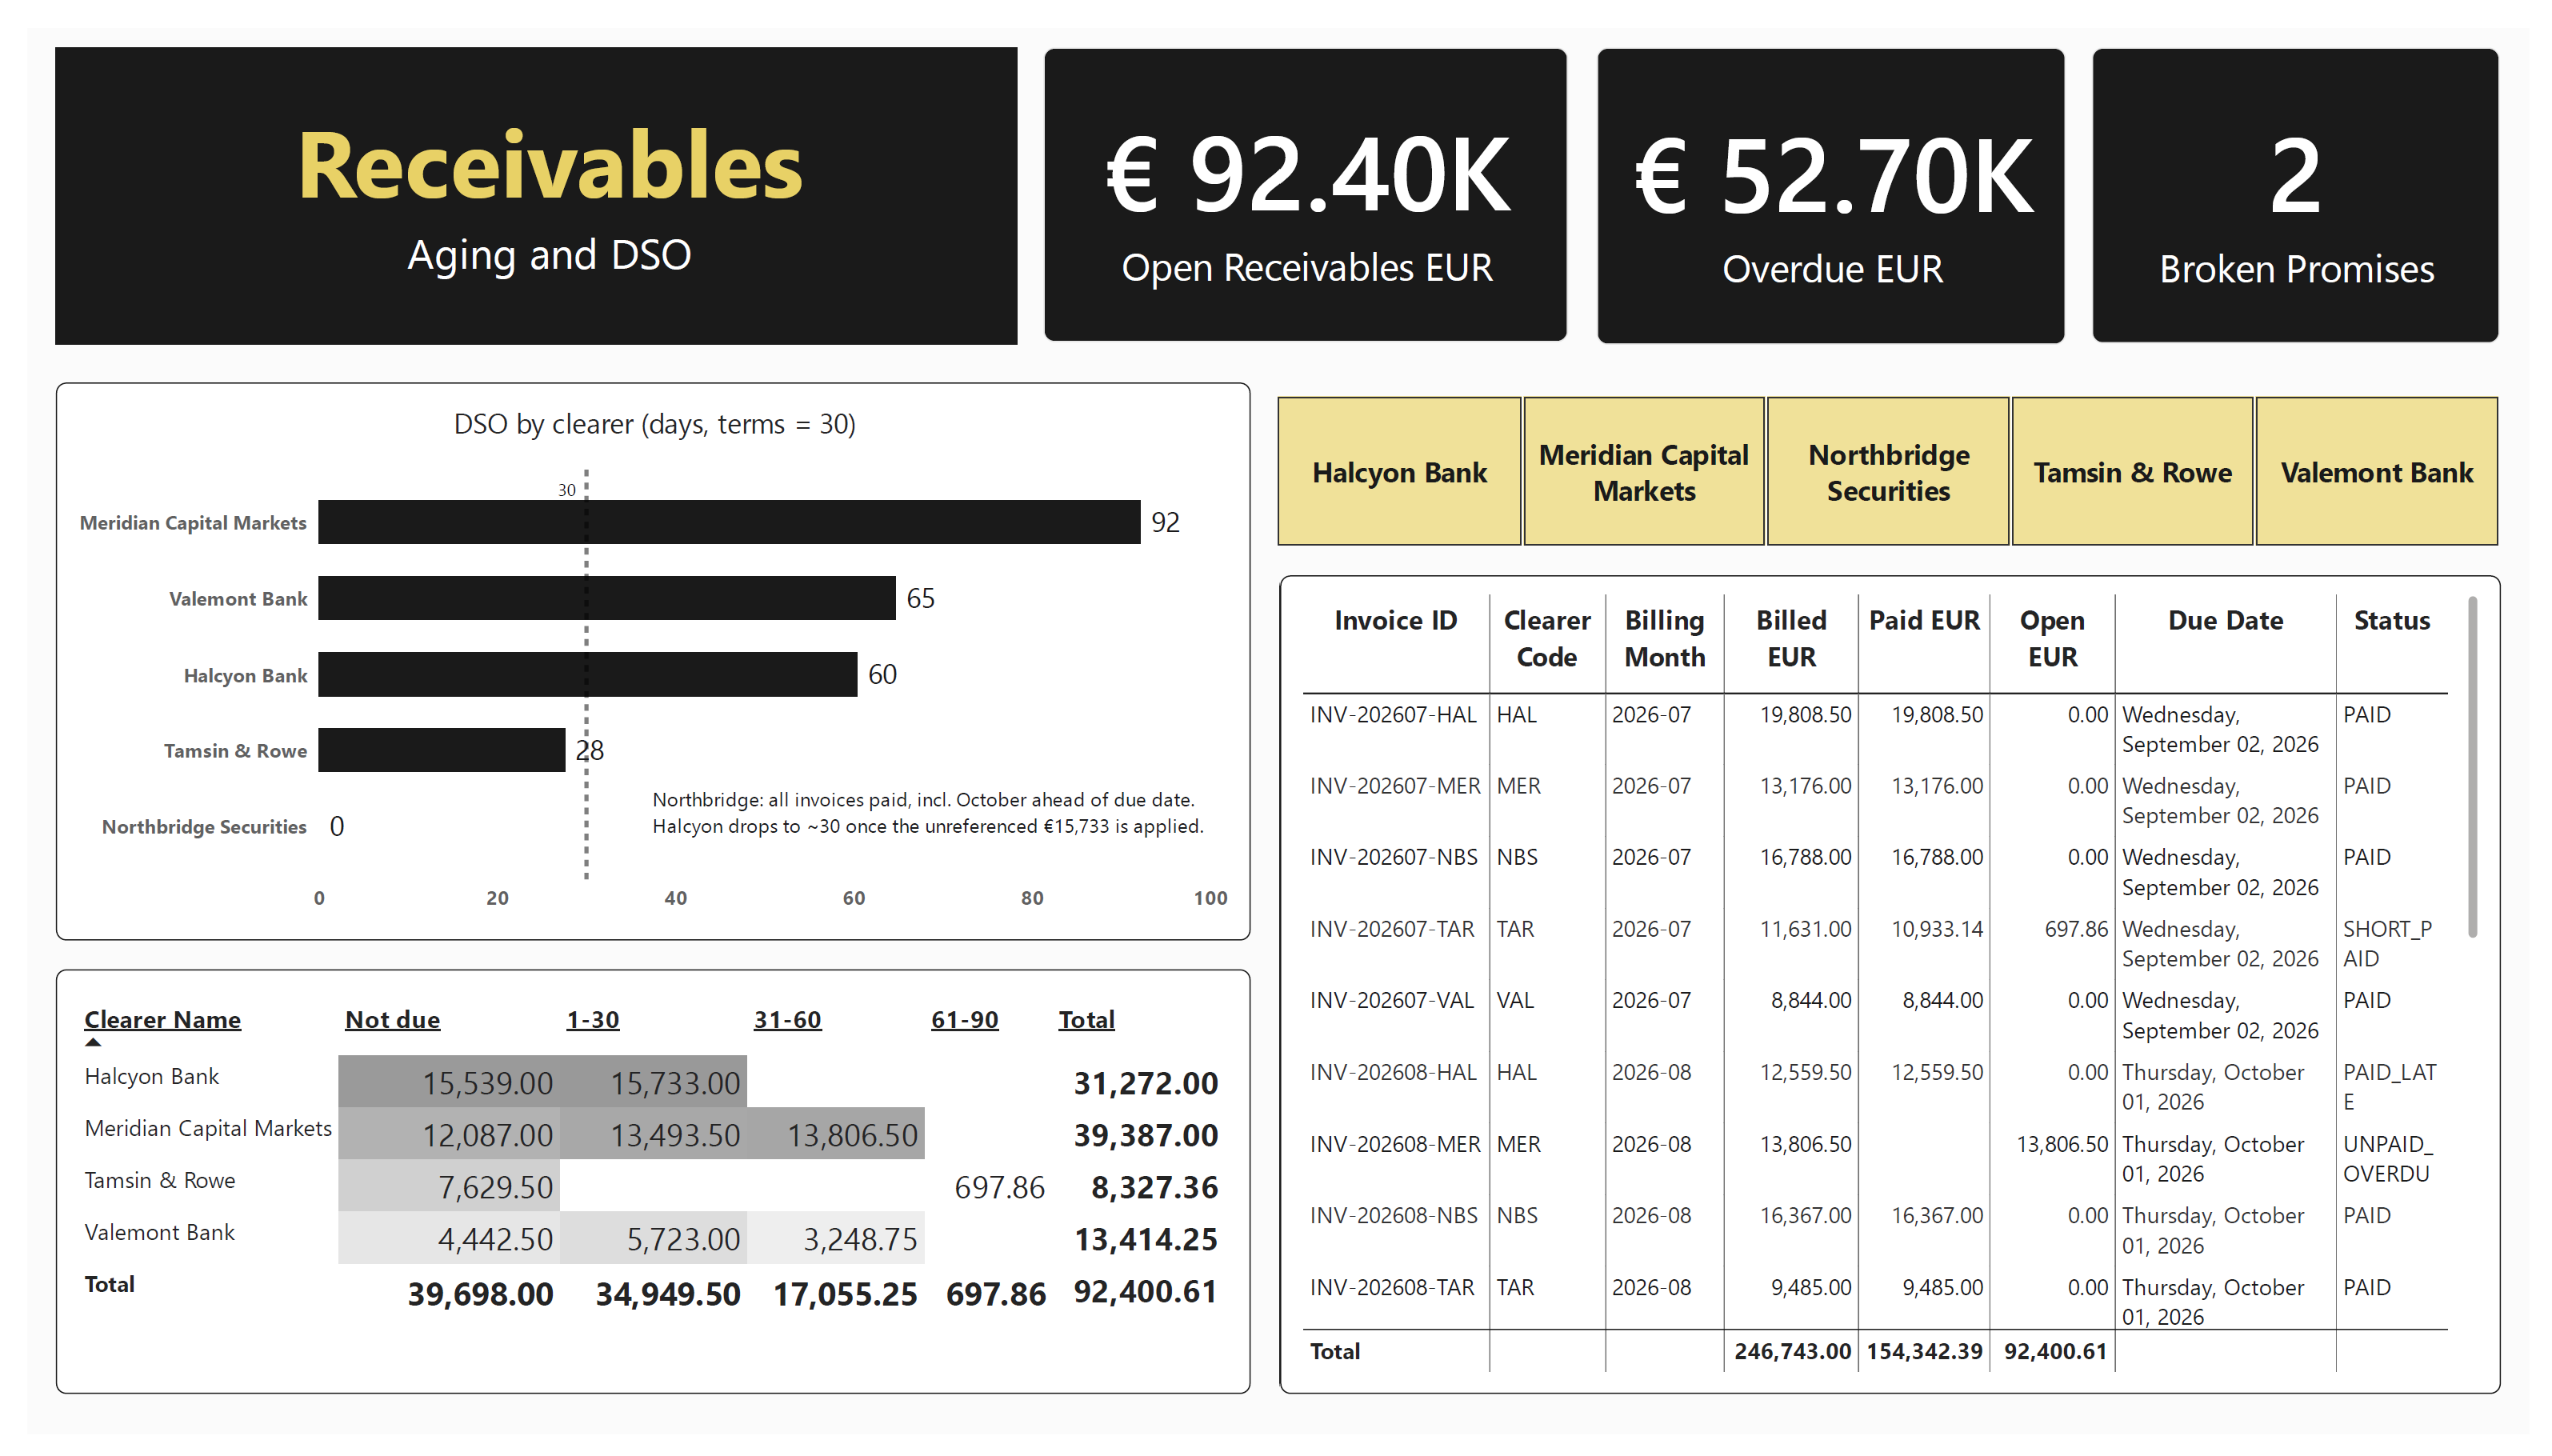

This screenshot's page, from the dashboard's own definition file:
{"tool":"powerbi","page":{"name":"Receivables","canvas":[1920,1080],"ordinal":1},"visuals":[{"type":"cardVisual","fields":{"Data":["_Measures.Broken Promises"]},"box":[1584.2,15.1,313,227.2],"z":0},{"type":"cardVisual","fields":{"Data":["_Measures.Overdue EUR"]},"box":[1203.7,14.7,360.7,228.2],"z":1000},{"type":"textbox","box":[22.1,14.7,738,228.2],"z":2000},{"type":"slicer","fields":{"Values":["clearers.clearer_name"]},"box":[939.2,272.7,976,134.2],"z":3000},{"type":"tableEx","fields":{"Values":["invoice_status.invoice_id","invoice_status.clearer_code","invoice_status.billing_month.Variation.Date Hierarchy.Month","Sum(invoice_status.amount_eur)","Sum(invoice_status.paid_eur)","Sum(invoice_status.open_eur)","invoice_status.due_date.Variation.Date Hierarchy.Year","invoice_status.payment_status"]},"box":[960.7,419.6,936.8,629.5],"z":4000},{"type":"cardVisual","fields":{"Data":["_Measures.Open Receivables EUR"]},"box":[780.4,14.7,401.2,226.4],"z":5000},{"type":"pivotTable","fields":{"Columns":["aging.aging_bucket"],"Rows":["clearers.clearer_name"],"Values":["Sum(aging.open_eur)"]},"box":[22.1,723.3,916.6,325.8],"z":6000},{"type":"clusteredBarChart","title":"DSO by clearer (days, terms = 30)","fields":{"Category":["clearers.clearer_name"],"Y":["Sum(dso.dso_days)"]},"box":[22.1,272.4,916.6,428.8],"z":7000},{"type":"textbox","box":[480,581.7,430,48.3],"z":8000}]}

Visuals, with their boxes in screenshot pixels (x1, y1, x2, y2), scaled from the page's 1920x1080 canvas onto the 2552x1456 screenshot:
cardVisual - _Measures.Broken Promises: {"left": 2106, "top": 20, "right": 2522, "bottom": 326}
cardVisual - _Measures.Overdue EUR: {"left": 1600, "top": 20, "right": 2079, "bottom": 327}
textbox: {"left": 30, "top": 20, "right": 1010, "bottom": 327}
slicer - clearers.clearer_name: {"left": 1248, "top": 368, "right": 2546, "bottom": 549}
tableEx - invoice_status.invoice_id x invoice_status.clearer_code: {"left": 1277, "top": 566, "right": 2522, "bottom": 1414}
cardVisual - _Measures.Open Receivables EUR: {"left": 1038, "top": 20, "right": 1570, "bottom": 325}
pivotTable - aging.aging_bucket x clearers.clearer_name: {"left": 30, "top": 975, "right": 1248, "bottom": 1414}
"DSO by clearer (days, terms = 30)" clusteredBarChart: {"left": 30, "top": 367, "right": 1248, "bottom": 946}
textbox: {"left": 638, "top": 784, "right": 1210, "bottom": 850}
